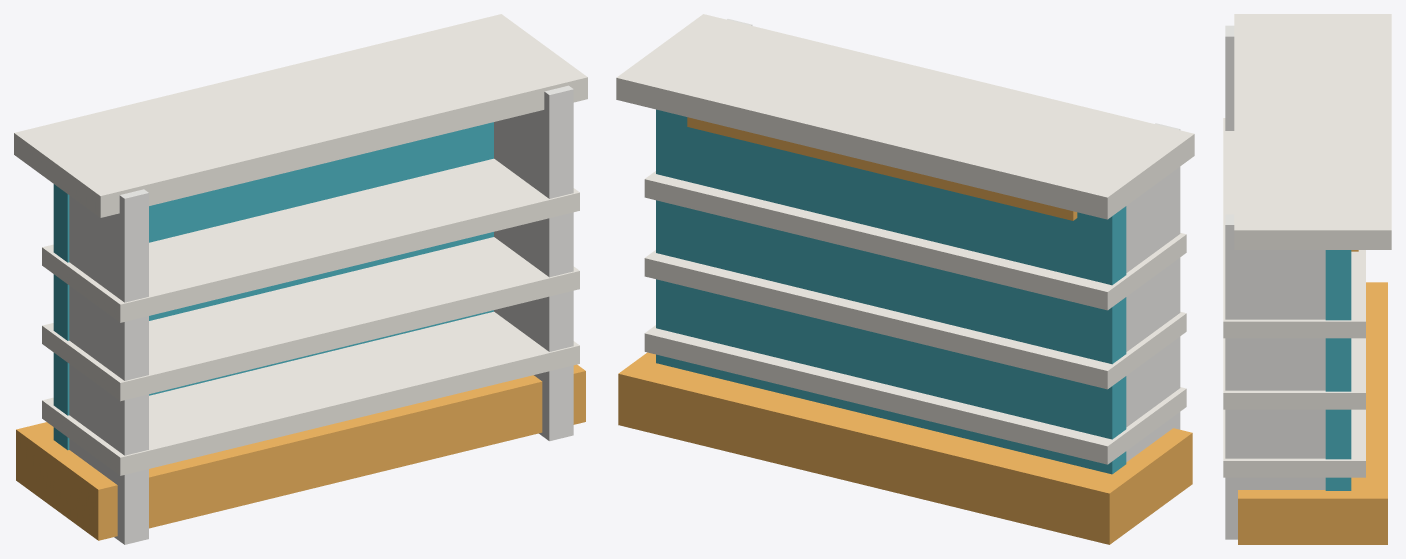
The model's file is shelf.fbx.
3 renders of one model, left to right at view 1: azimuth 30°, elevation 25°; view 2: azimuth 150°, elevation 25°; view 3: azimuth 270°, elevation 25°, orthographic. The views are drawn at different scales.
Visible parts, largest first — view 1: TopCap, ShelfBase, Board_2, Board_1, Board_0, ShelfBack, Post_-1.22, Post_1.22; view 2: ShelfBack, TopCap, ShelfBase, Board_0, Board_1, Board_2, Post_-1.22, LabelBoard; view 3: TopCap, Post_1.22, ShelfBase, Board_2, ShelfBack, Board_1, Board_0, Post_-1.22.
Part boxes in pixels (bbox=[...]): TopCap: bbox=[14, 14, 587, 217]; ShelfBase: bbox=[16, 364, 585, 540]; Board_2: bbox=[42, 158, 579, 322]; Board_1: bbox=[42, 237, 579, 401]; Board_0: bbox=[42, 311, 579, 475]; ShelfBack: bbox=[53, 122, 493, 450]; Post_-1.22: bbox=[69, 189, 148, 544]; Post_1.22: bbox=[494, 85, 573, 441]; ShelfBack: bbox=[656, 109, 1126, 474]; TopCap: bbox=[616, 14, 1194, 219]; ShelfBase: bbox=[618, 352, 1192, 544]; Board_0: bbox=[644, 325, 1186, 464]; Board_1: bbox=[644, 250, 1186, 389]; Board_2: bbox=[644, 171, 1186, 310]; Post_-1.22: bbox=[1126, 123, 1180, 461]; LabelBoard: bbox=[687, 117, 1077, 220]; TopCap: bbox=[1234, 14, 1391, 249]; Post_1.22: bbox=[1225, 214, 1325, 539]; ShelfBase: bbox=[1238, 282, 1387, 544]; Board_2: bbox=[1223, 118, 1365, 338]; ShelfBack: bbox=[1325, 250, 1351, 490]; Board_1: bbox=[1223, 338, 1365, 409]; Board_0: bbox=[1223, 409, 1365, 477]; Post_-1.22: bbox=[1225, 25, 1234, 130].
Bounding box in the file's own units: 280 × 192 × 92.
